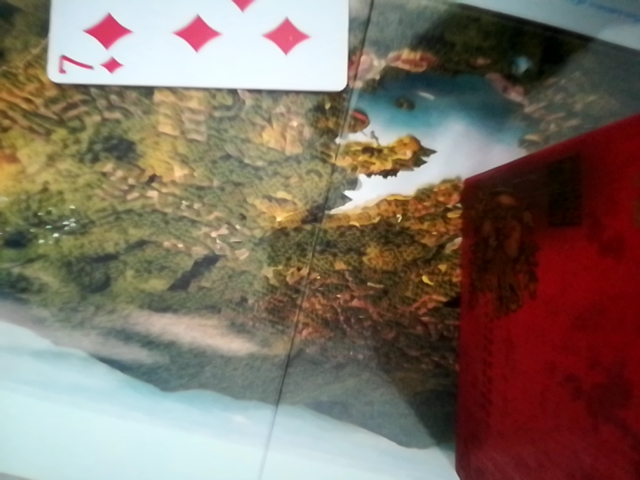fk 7: (37, 4, 355, 92)
